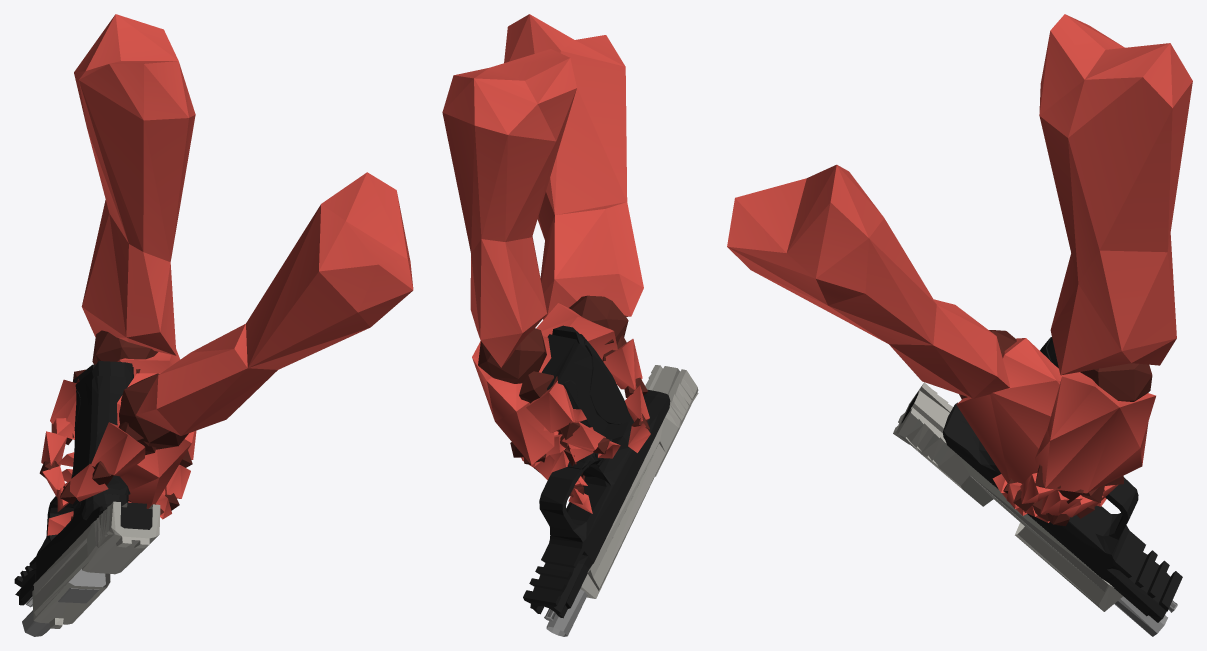
Rendered from M&P9shootCombatHighLowPolyNoAmmo.obj.
3 renders of one model, left to right at view 1: azimuth 30°, elevation 25°; view 2: azimuth 150°, elevation 25°; view 3: azimuth 270°, elevation 25°, orthographic. The views are drawn at different scales.
Visible parts, largest first — view 1: Beta_Surface, body_平面, slide_平面.002, Beta_Joints, barrel_円.001; view 2: Beta_Surface, body_平面, Beta_Joints, slide_平面.002, magazine_平面.003, barrel_円.001; view 3: Beta_Surface, body_平面, slide_平面.002, Beta_Joints, barrel_円.001.
Boxes of the visible parts, left/top/right/bottom form: Beta_Surface: left=41, top=14, right=413, bottom=535; body_平面: left=14, top=361, right=133, bottom=605; slide_平面.002: left=32, top=501, right=160, bottom=628; Beta_Joints: left=39, top=330, right=192, bottom=519; barrel_円.001: left=22, top=569, right=105, bottom=636; Beta_Surface: left=442, top=14, right=650, bottom=513; body_平面: left=523, top=325, right=670, bottom=618; Beta_Joints: left=478, top=295, right=649, bottom=497; slide_平面.002: left=580, top=365, right=698, bottom=598; magazine_平面.003: left=541, top=334, right=578, bottom=390; barrel_円.001: left=546, top=589, right=587, bottom=636; Beta_Surface: left=727, top=14, right=1192, bottom=522; body_平面: left=943, top=337, right=1182, bottom=622; slide_平面.002: left=893, top=382, right=1122, bottom=611; Beta_Joints: left=959, top=330, right=1152, bottom=526; barrel_円.001: left=1114, top=596, right=1167, bottom=636.
Bounding box in the file's own units: 35.11 × 78.81 × 52.31.
